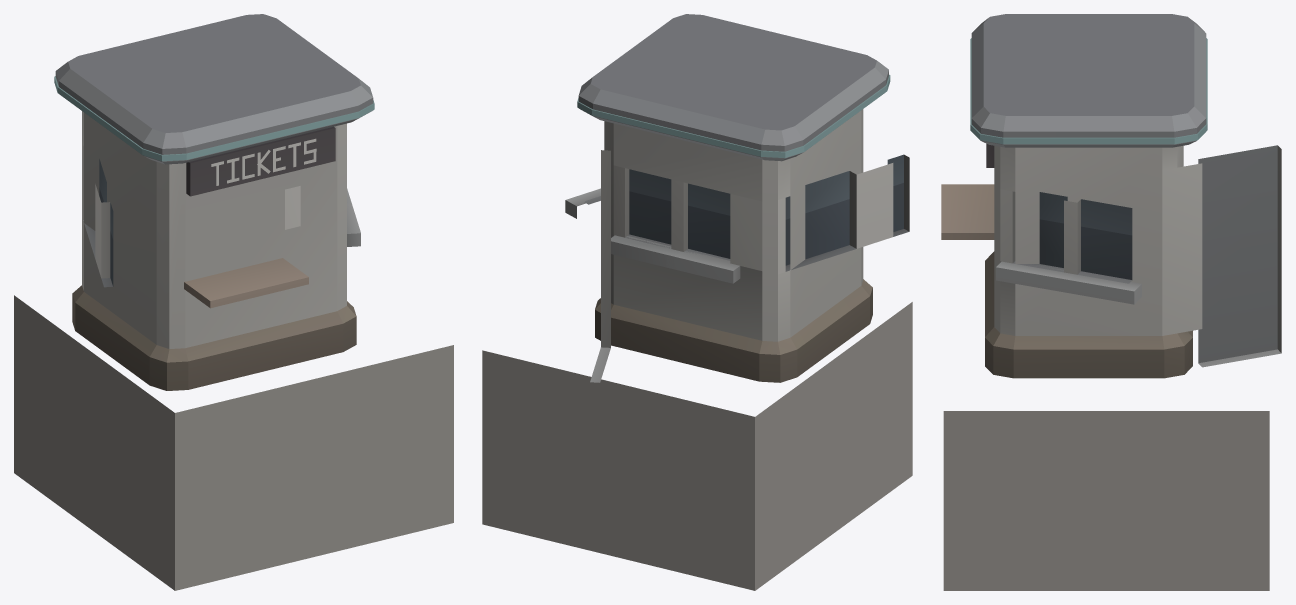
File: ticket.lod1.glb
3 renders of one model, left to right at view 1: azimuth 30°, elevation 25°; view 2: azimuth 150°, elevation 25°; view 3: azimuth 270°, elevation 25°, orthographic. The views are drawn at different scales.
Size of the model in its own units: 2.76 by 3.69 by 2.57.
